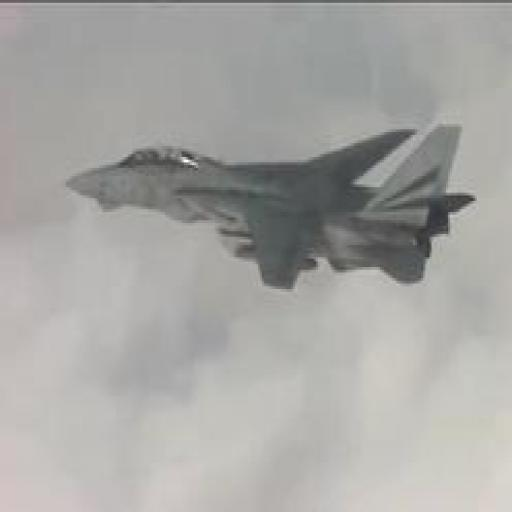aircraft: (65, 124, 477, 291)
